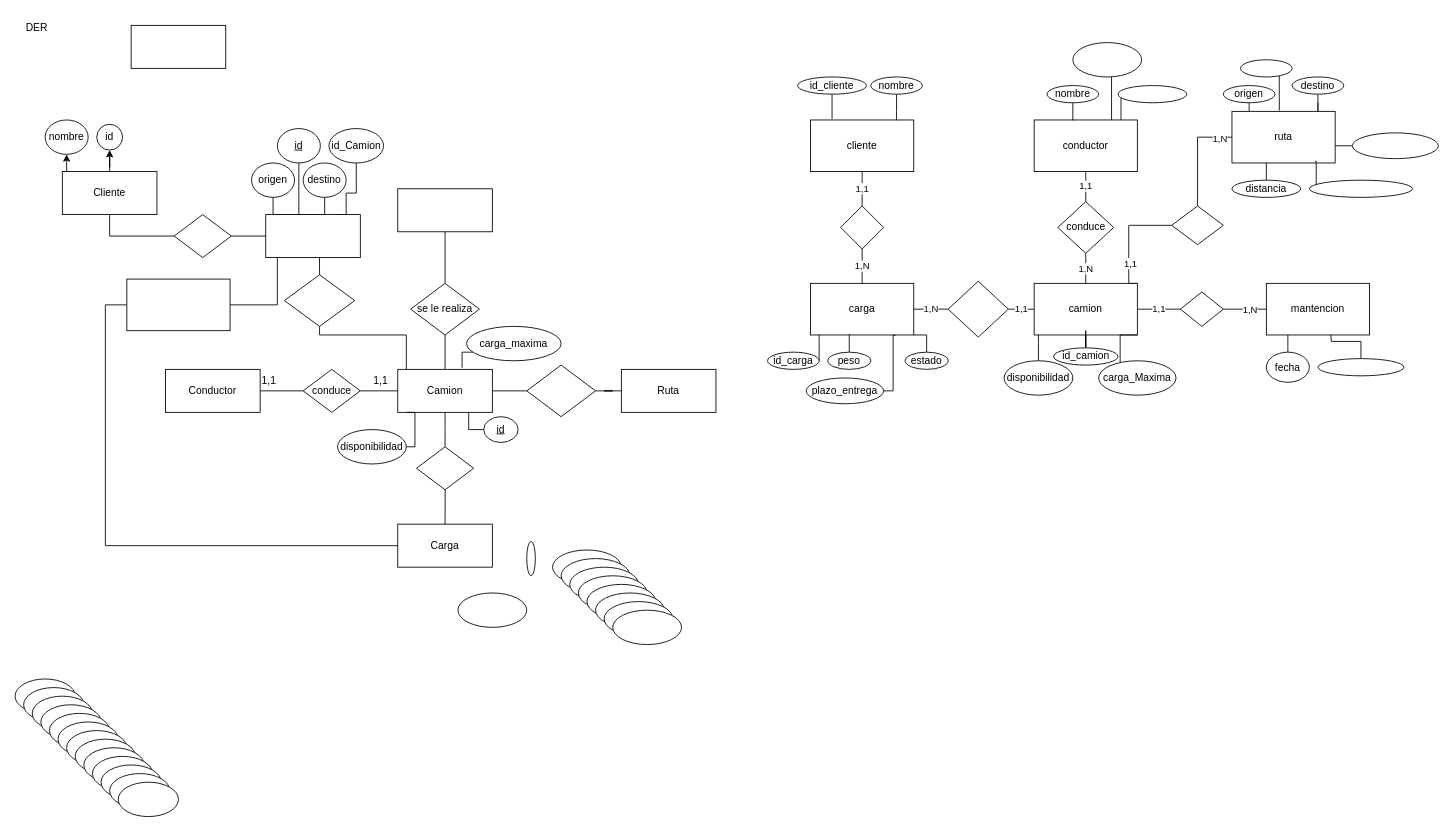
The diagram is 1453 pixels wide and 832 high, and some of its shapes have lost their labels. The centre of each missing label's shape, as x and y in pixels:
"asigna" goes at point 1197,225.
"carga_del_pedido" goes at point 178,304.
"costo_combustible" goes at point 1360,188.
"costo_conductor" goes at point 1394,145.
"envia" goes at point 862,227.
"es realizado" goes at point 319,300.
"id_conductor" goes at point 1152,94.
"id_mantencion" goes at point 1360,367.
"id_ruta" goes at point 1266,68.
"lleva" goes at point 445,468.
"Mantenimiento" goes at point 444,210.
"Object" goes at point 178,46.
"Pedido de transporte" goes at point 312,236.
"realiza" goes at point 202,236.
"se le asigna" goes at point 561,390.
"telefono" goes at point 1107,59.
"tiene" goes at point 1201,308.
"transporta" goes at point 977,308.
